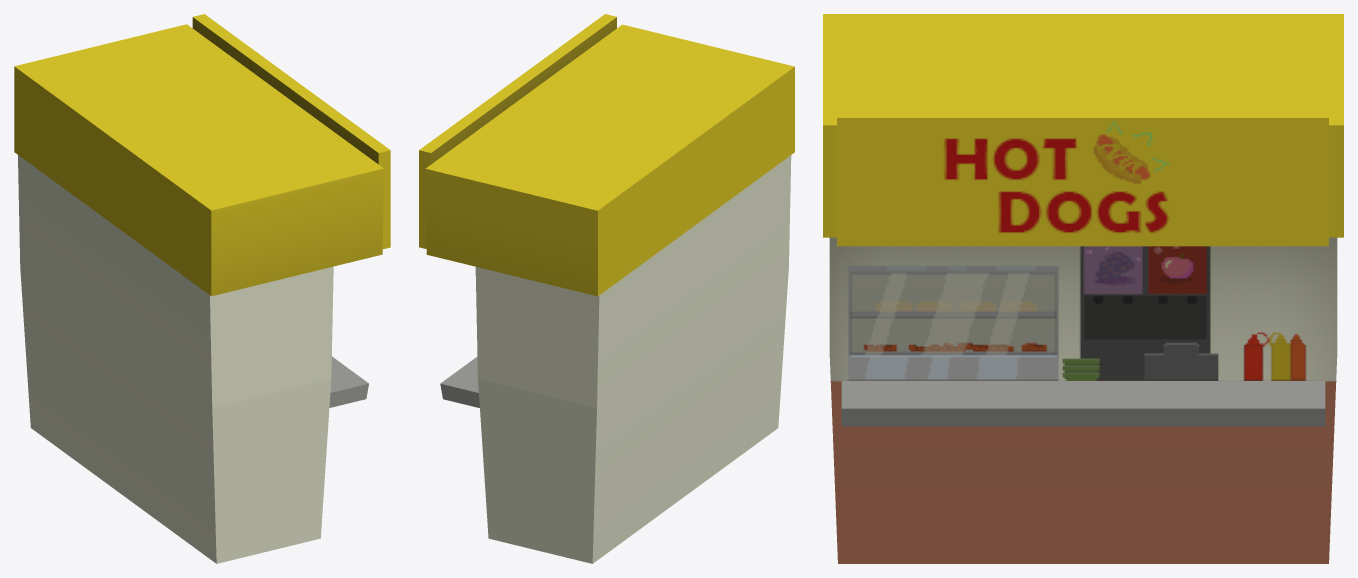
File: FS_FriesStore.fbx
The picture shows the model from 3 angles, left to right: view 1: azimuth 30°, elevation 25°; view 2: azimuth 150°, elevation 25°; view 3: azimuth 270°, elevation 25°; orthographic projection. The views are drawn at different scales.
Parts seen in each view (by area): view 1: shop4, roof4, sign4, table4; view 2: shop4, roof4, sign4, table4; view 3: shop4, sign4, roof4, table4.
Boxes of the visible parts, x1,y1,x2,y2 form: shop4: [18, 155, 333, 563]; roof4: [14, 24, 383, 296]; sign4: [192, 14, 390, 249]; table4: [329, 356, 368, 407]; shop4: [475, 155, 791, 563]; roof4: [425, 24, 794, 296]; sign4: [419, 14, 616, 248]; table4: [440, 356, 479, 407]; shop4: [829, 237, 1337, 563]; sign4: [837, 110, 1328, 246]; roof4: [823, 14, 1343, 237]; table4: [841, 381, 1325, 426].
Bounding box in the file's own units: 67.59 × 130 × 125.
1 material, 1 textured.
